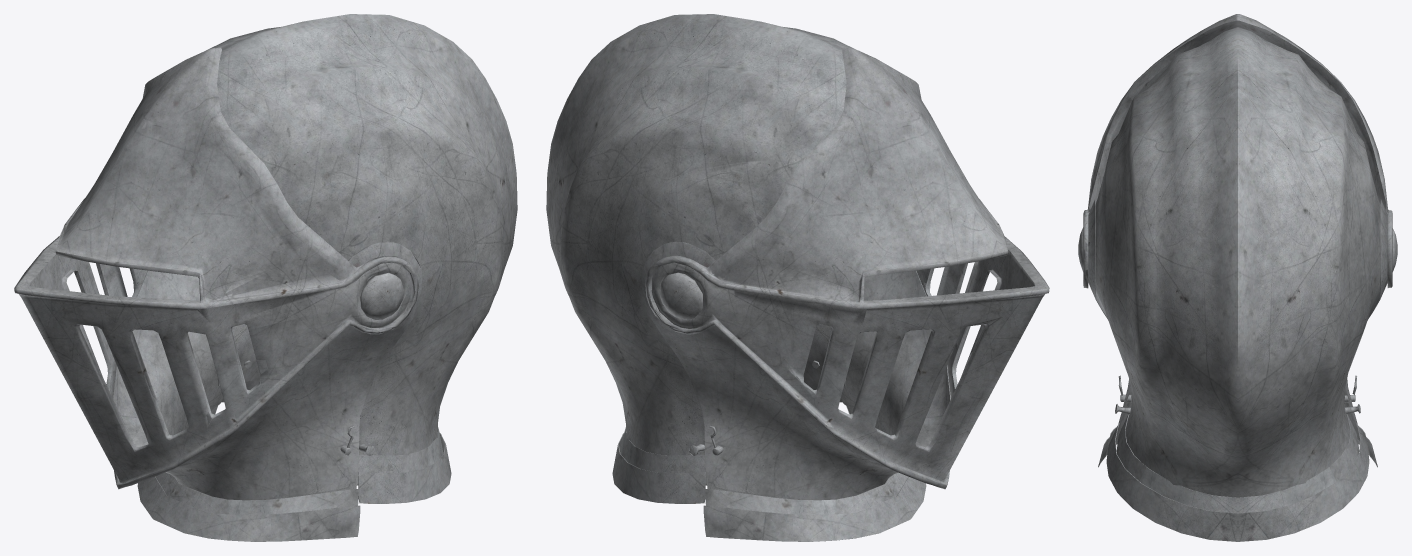
The model's file is helm.glb.
The picture shows the model from 3 angles, left to right: view 1: azimuth 30°, elevation 25°; view 2: azimuth 150°, elevation 25°; view 3: azimuth 270°, elevation 25°; orthographic projection. The views are drawn at different scales.
Parts seen in each view (by area): view 1: Helmet_ambientCG/Metal003/2K-PNG_0; view 2: Helmet_ambientCG/Metal003/2K-PNG_0; view 3: Helmet_ambientCG/Metal003/2K-PNG_0.
Part boxes in pixels (x1,y1,x2,y2): Helmet_ambientCG/Metal003/2K-PNG_0: (14, 14, 517, 541); Helmet_ambientCG/Metal003/2K-PNG_0: (546, 14, 1049, 541); Helmet_ambientCG/Metal003/2K-PNG_0: (1078, 14, 1397, 541).
Bounding box in the file's own units: 16.68 × 14.66 × 9.86.
1 material, 1 textured.
